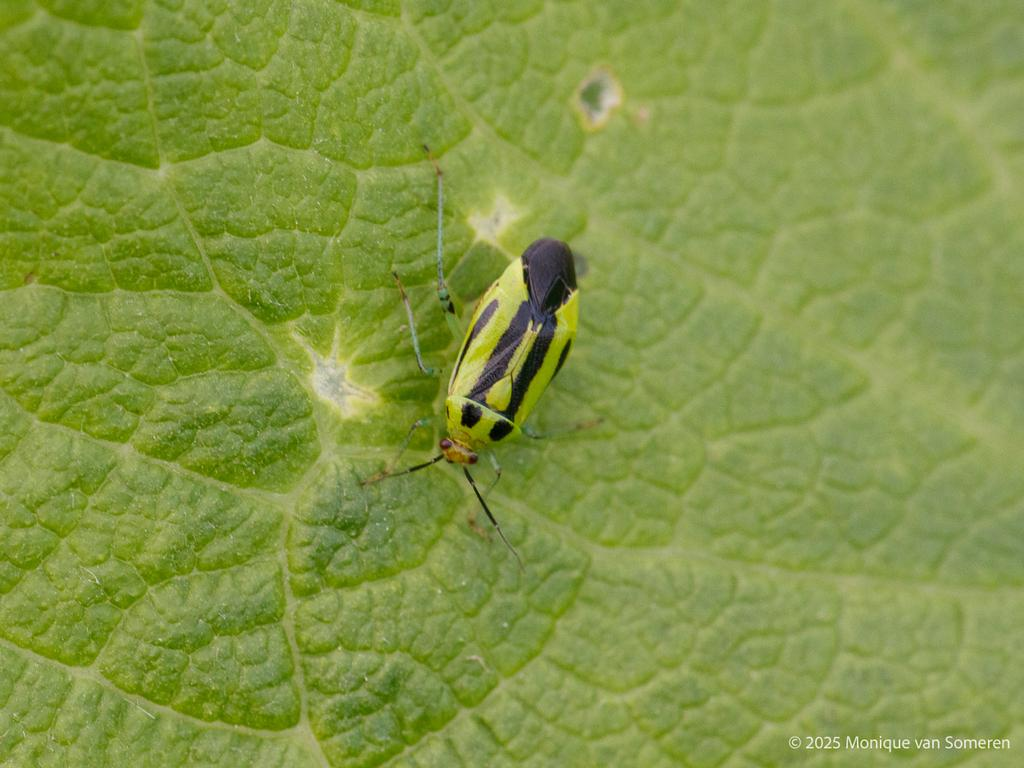plant_bugs: (322, 108, 610, 594)
